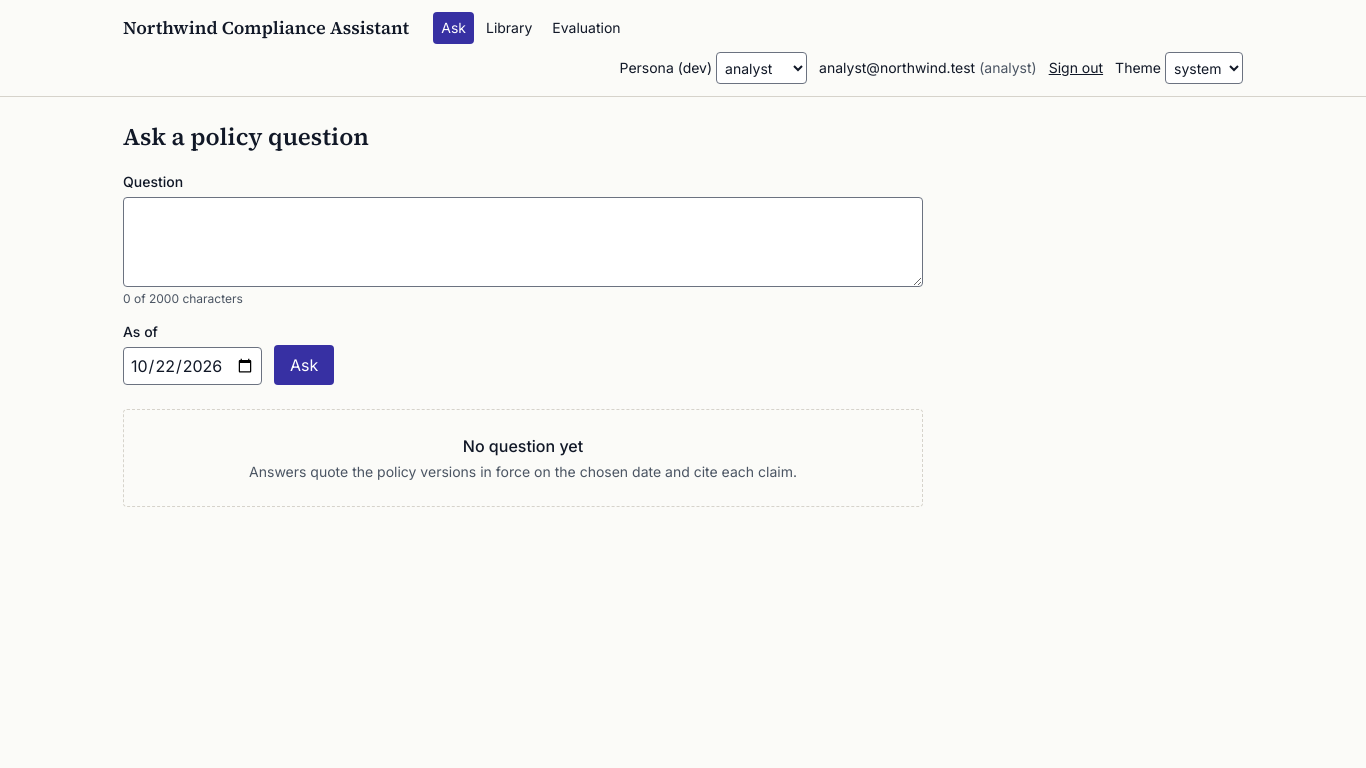
the answer survives opening the evidence and coming back
Type "What is the maximum age of a proof-of-address document?" into the text box labelled "Question 0 of 2000 characters" at (523, 242), box [123, 197, 923, 287]
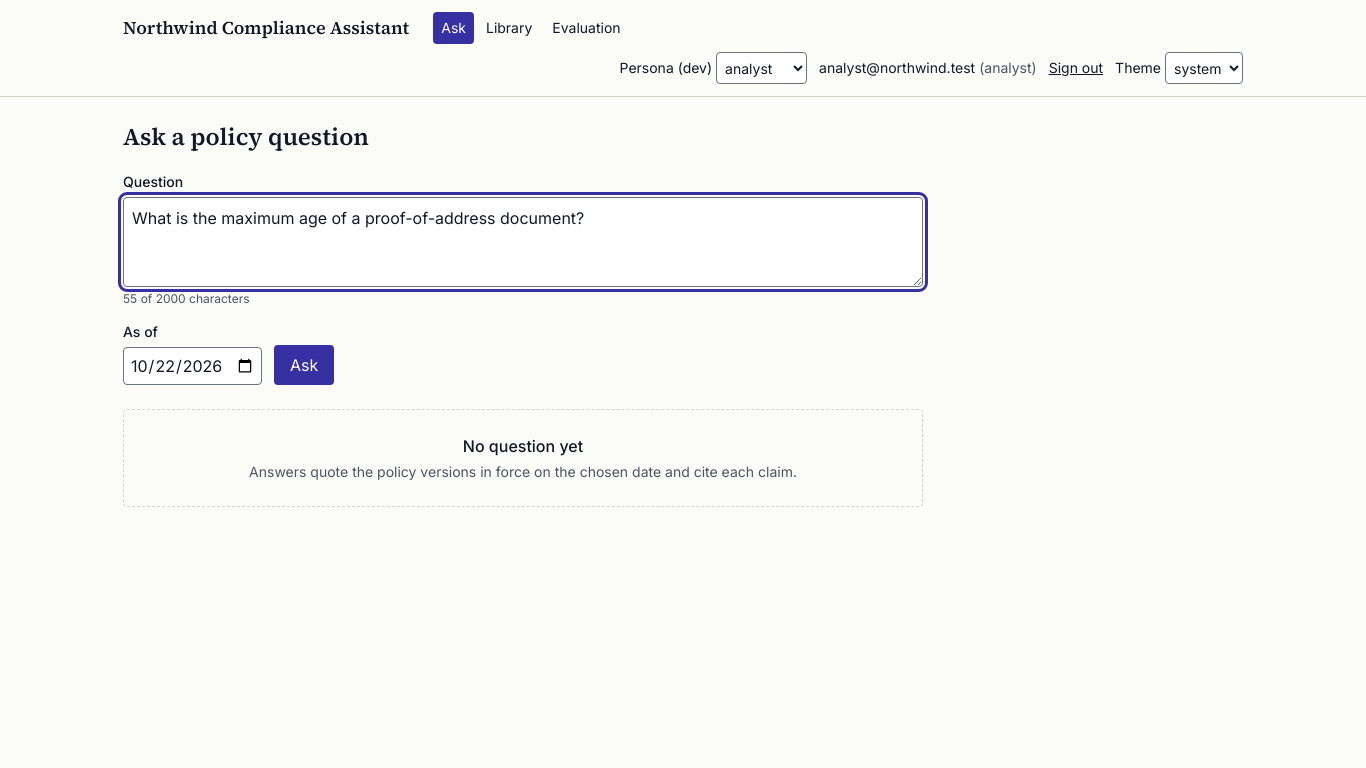
Click the button "Ask" at (304, 365), box [274, 345, 334, 385]
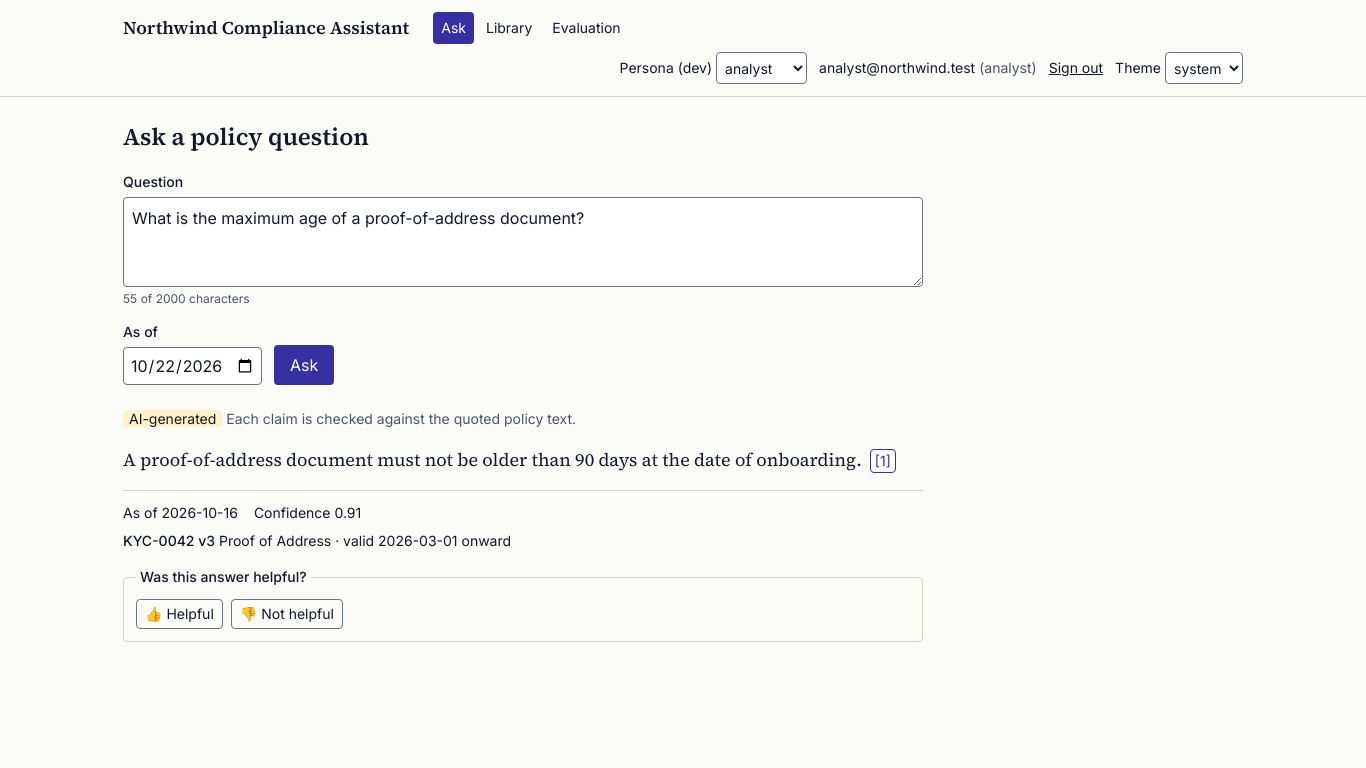
Check: the text "KYC-0042 v3" is shown, box [123, 532, 215, 549]
Click the link named "[1] citation" at (883, 461), box [870, 449, 896, 473]
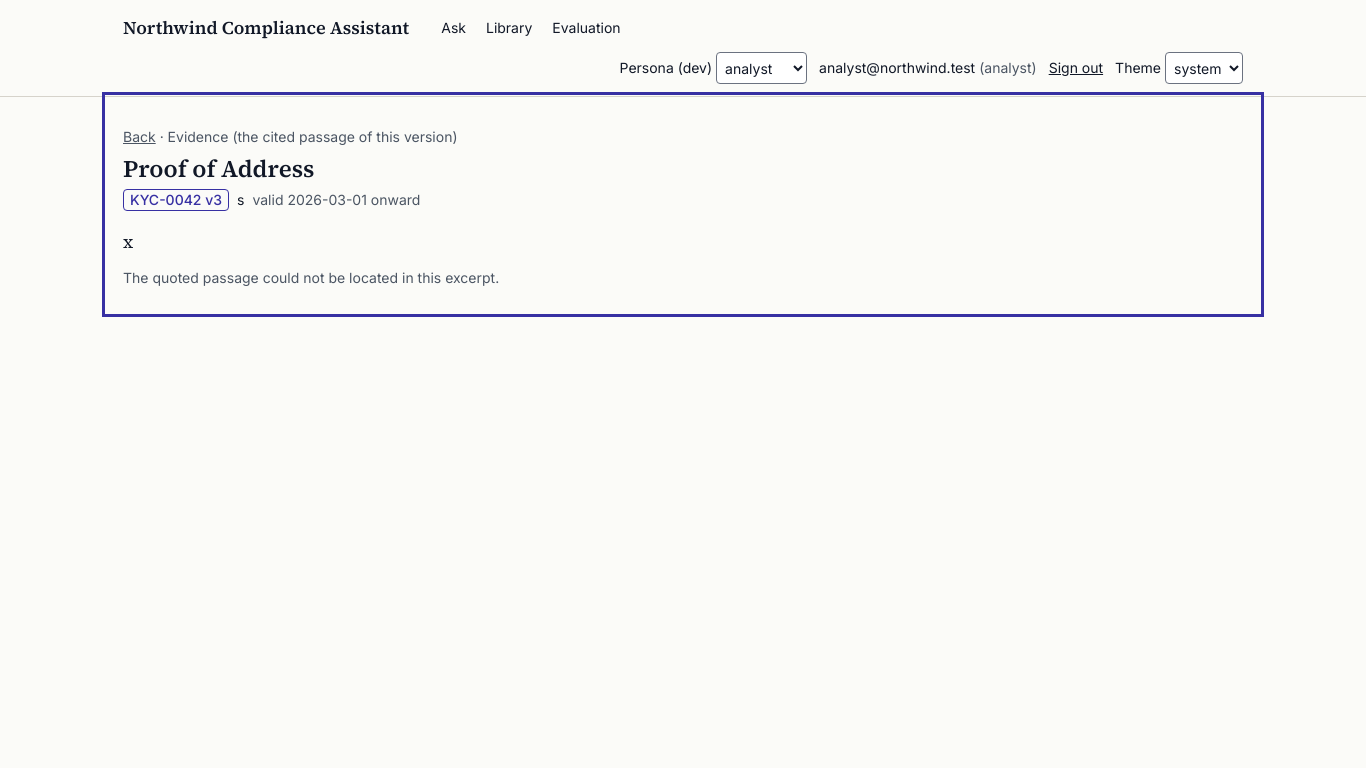
Check: the button "Back" is shown, box [123, 121, 156, 153]
Click the link "Ask" at (454, 28), box [441, 19, 466, 36]
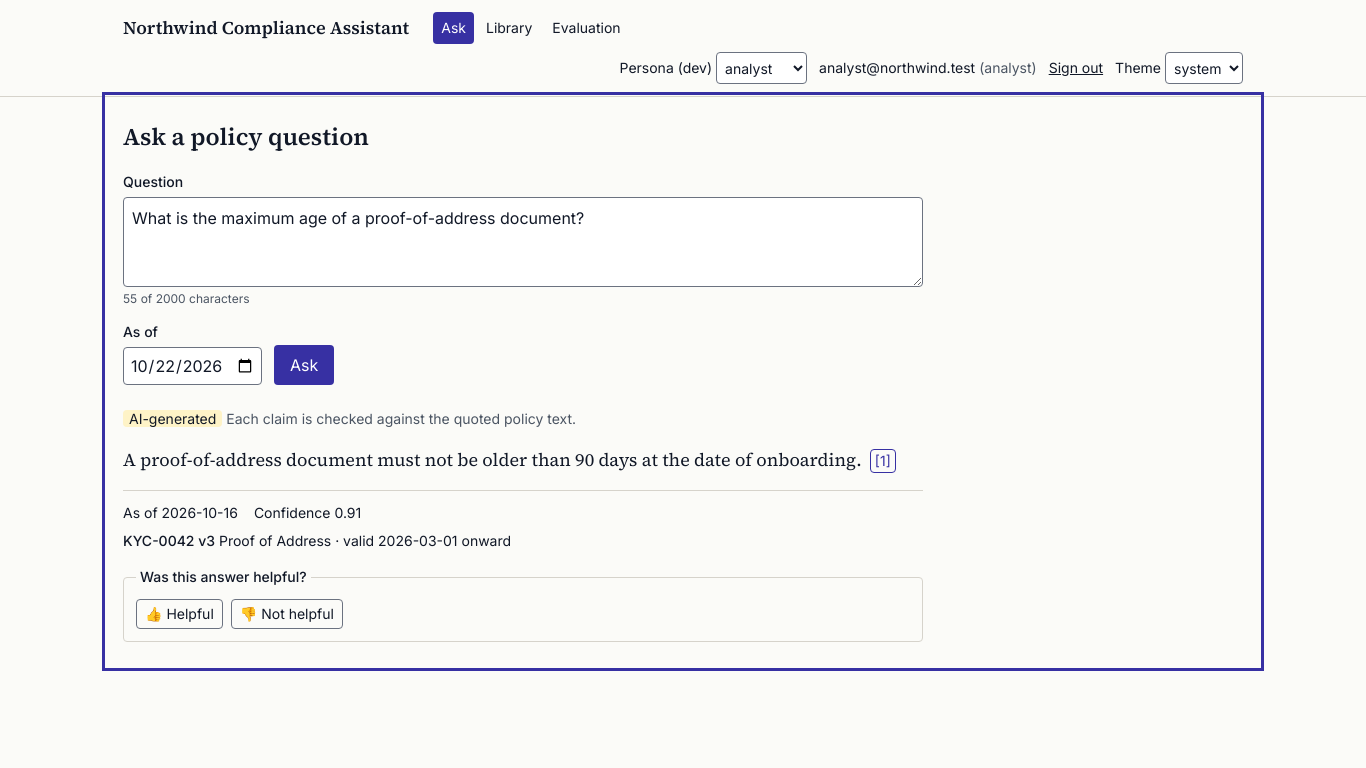
Check: the text "older than 90 days at the date of onboarding" is shown, box [123, 447, 862, 472]
Check: the text box labelled "Question 55 of 2000 characters" holds "What is the maximum age of a proof-of-address document?", box [123, 197, 923, 287]
